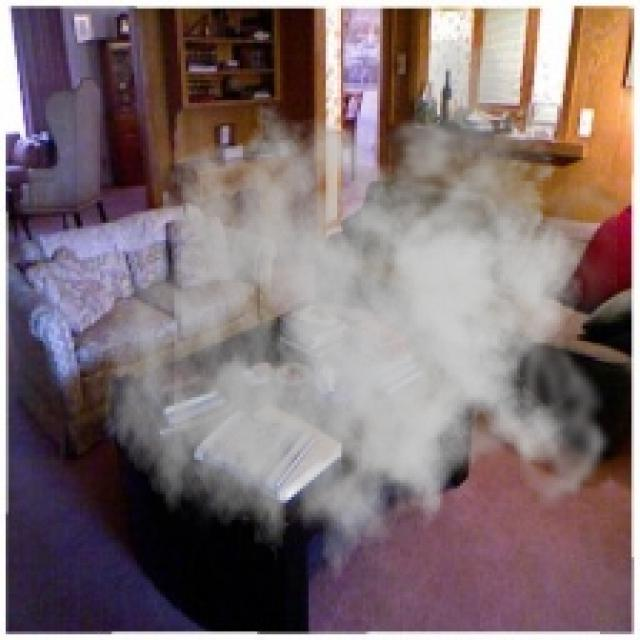smoke: (103, 40, 617, 603)
